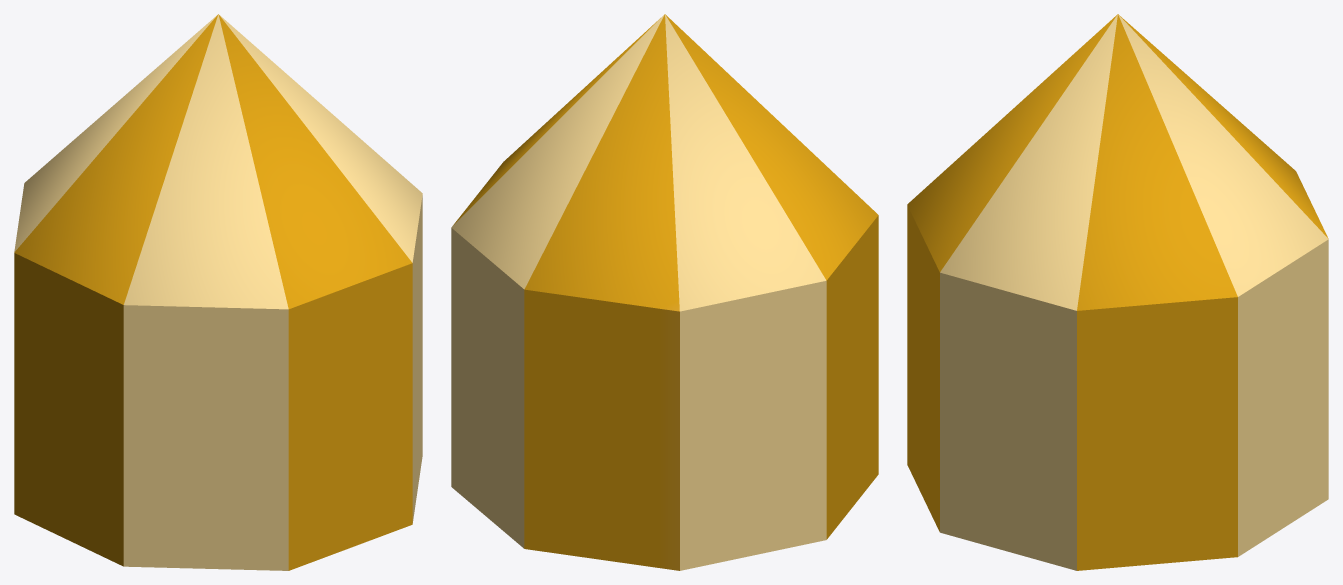
The model's file is FestivalTent4.fbx.
3 views of the same model, side by side, from view 1: azimuth 30°, elevation 25°; view 2: azimuth 150°, elevation 25°; view 3: azimuth 270°, elevation 25° (orthographic).
Visible parts, largest first — view 1: polySurface1584; view 2: polySurface1584; view 3: polySurface1584.
Part boxes in pixels (x1,y1,x2,y2): polySurface1584: [14, 14, 422, 570]; polySurface1584: [451, 14, 878, 570]; polySurface1584: [907, 14, 1328, 570].
Bounding box in the file's own units: 42.82 × 52.44 × 42.82.
1 material, 1 textured.
